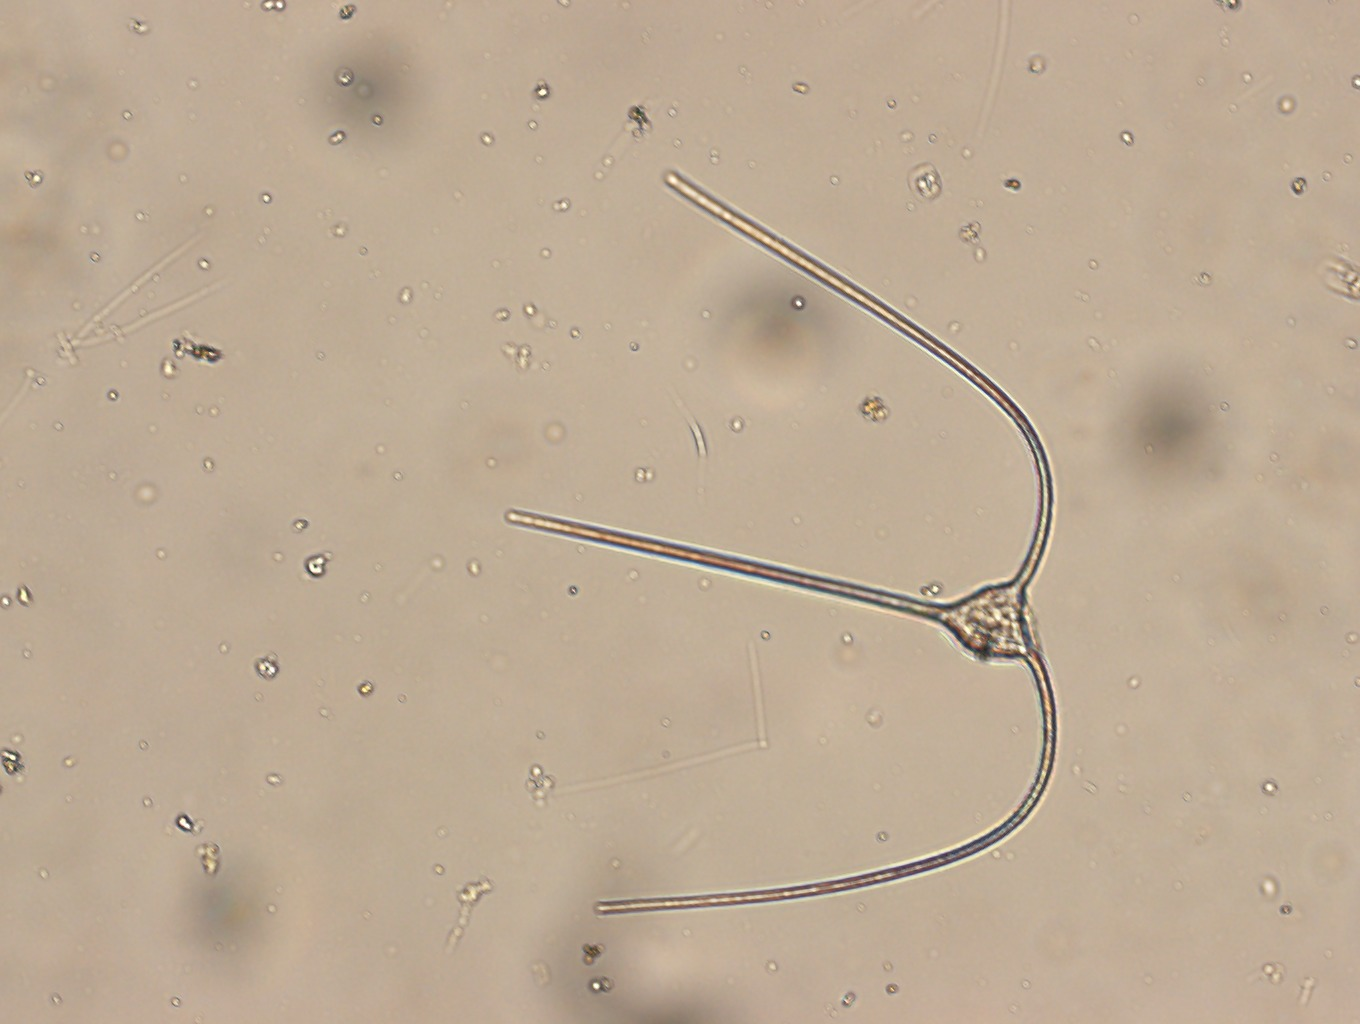ceratium trichoceros: (503, 167, 1059, 918)
